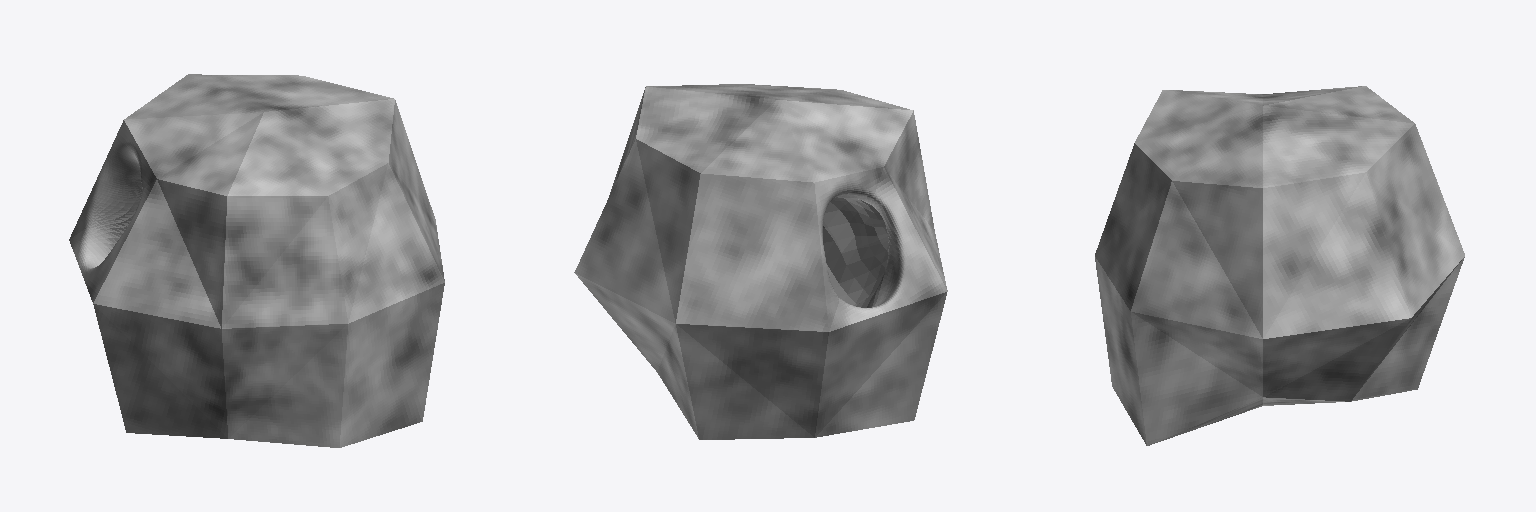
3 renders of one model, left to right at view 1: azimuth 30°, elevation 25°; view 2: azimuth 150°, elevation 25°; view 3: azimuth 270°, elevation 25°, orthographic.
Visible parts, largest first — view 1: asteroid5_asteroid.001; view 2: asteroid5_asteroid.001; view 3: asteroid5_asteroid.001.
Part boxes in pixels (left/top/right/bottom): asteroid5_asteroid.001: left=69, top=74, right=444, bottom=447; asteroid5_asteroid.001: left=574, top=84, right=947, bottom=439; asteroid5_asteroid.001: left=1095, top=86, right=1464, bottom=445.
Bounding box in the file's own units: 3.88 × 3.25 × 3.64.
Materials: 1 (1 with a texture image).